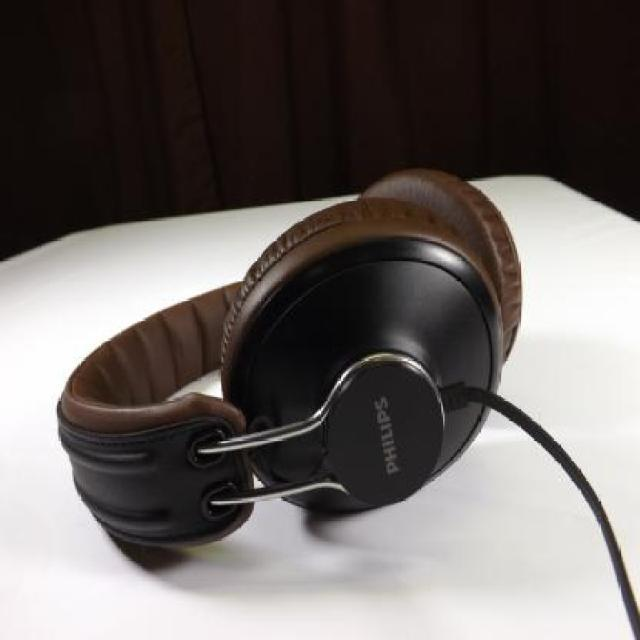earphone: (34, 88, 538, 580)
